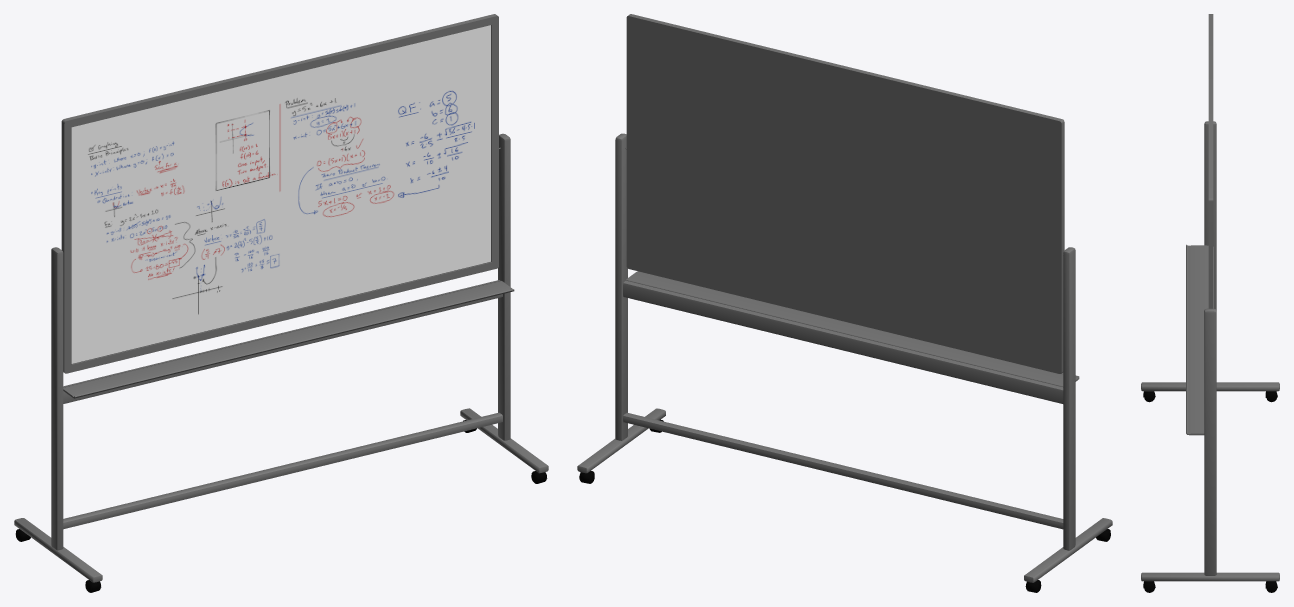
File: Whiteboard.fbx
3 views of the same model, side by side, from view 1: azimuth 30°, elevation 25°; view 2: azimuth 150°, elevation 25°; view 3: azimuth 270°, elevation 25° (orthographic). The views are drawn at different scales.
Visible parts, largest first — view 1: whiteboard; view 2: whiteboard; view 3: whiteboard.
Boxes of the visible parts, box(x1,y1,x2,y2) form: whiteboard: box(14, 14, 548, 592); whiteboard: box(577, 14, 1112, 592); whiteboard: box(1141, 14, 1279, 592).
Bounding box in the file's own units: 190 × 176 × 56.78.
Materials: 2 (1 with a texture image).
